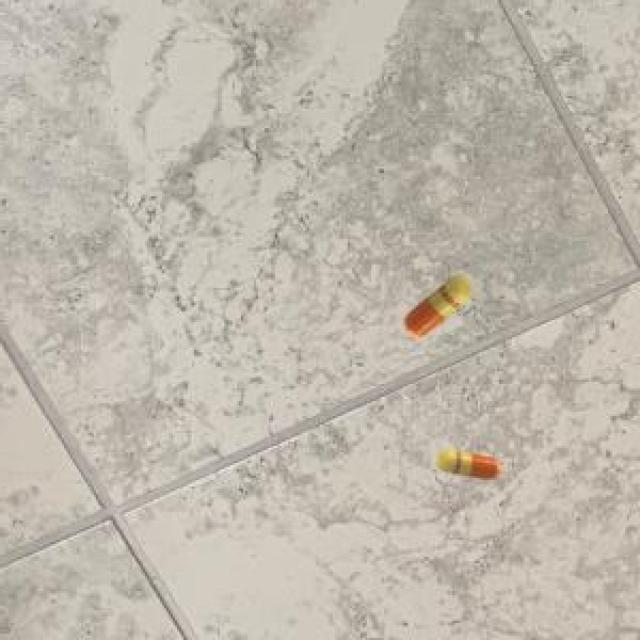Alaxan: (394, 258, 486, 356), (428, 443, 512, 487)
